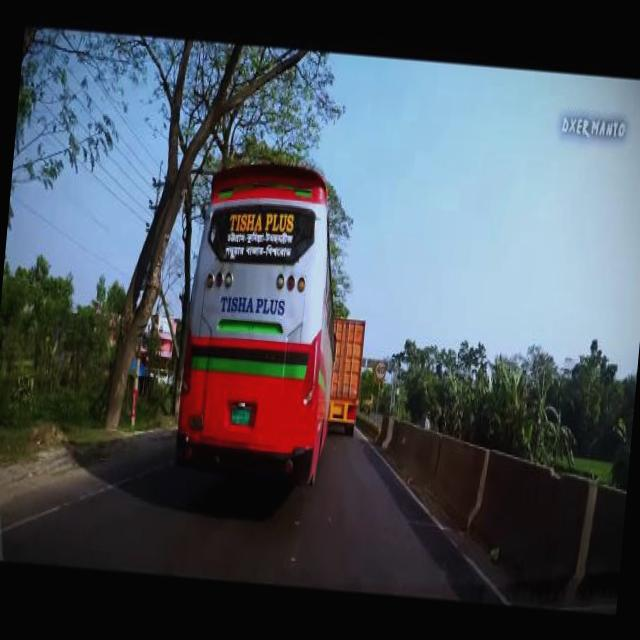bus: (168, 149, 352, 493)
truck: (324, 309, 367, 439)
